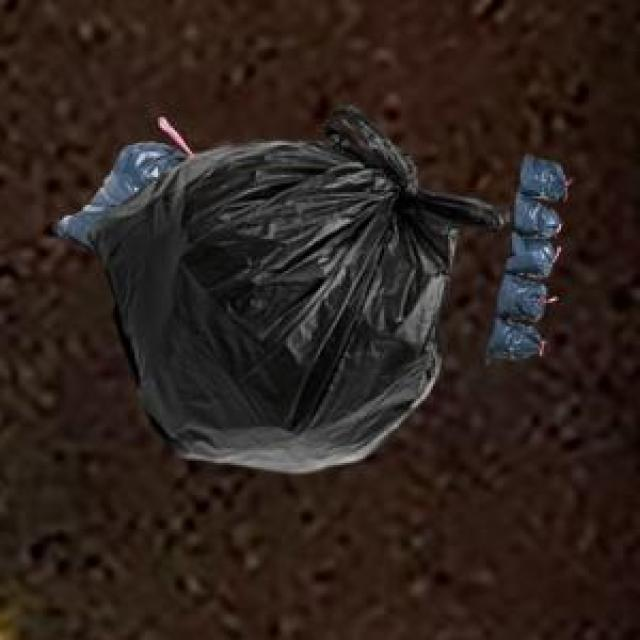Trashbag: (48, 114, 462, 476), (523, 154, 565, 204), (498, 275, 544, 320), (491, 324, 540, 361), (516, 196, 553, 243), (511, 237, 552, 276)
